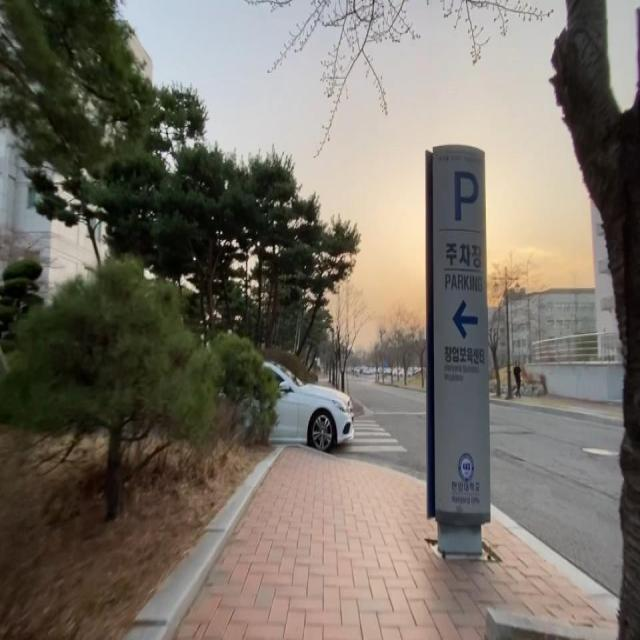sidewalk: (176, 448, 619, 640), (511, 395, 622, 418), (489, 392, 508, 400)
